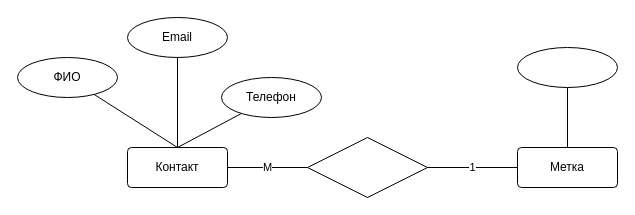
This 635x215 diagram has some shape labels left out. Each missing label, with the box of its shape:
Название: (516, 46, 618, 88)
Назначена: (306, 136, 428, 198)
